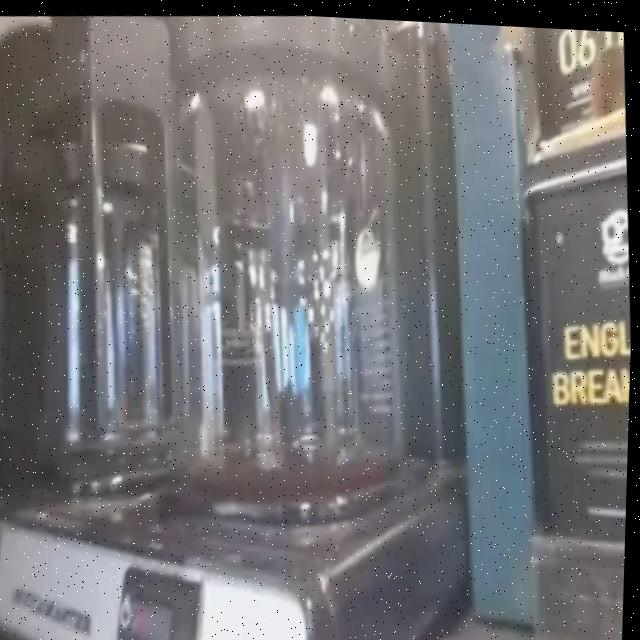nocoffee: (164, 97, 416, 478), (40, 193, 178, 462)
